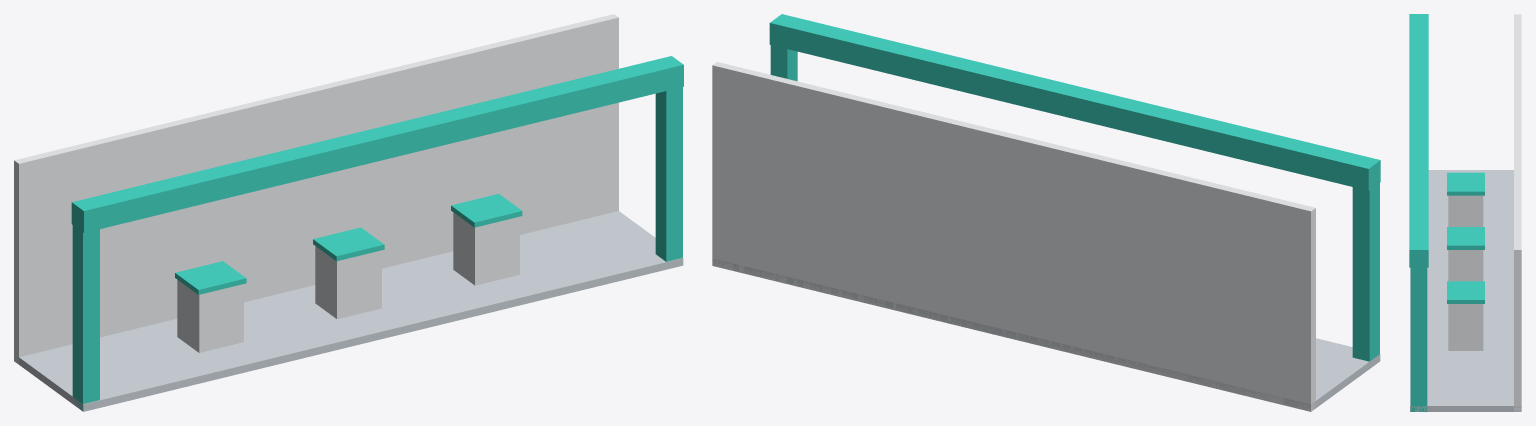
The picture shows the model from 3 angles, left to right: view 1: azimuth 30°, elevation 25°; view 2: azimuth 150°, elevation 25°; view 3: azimuth 270°, elevation 25°; orthographic projection. The views are drawn at different scales.
Parts seen in each view (by area): view 1: Exhibition Booth Concept; view 2: Exhibition Booth Concept; view 3: Exhibition Booth Concept.
Part boxes in pixels (left/top/right/bottom): Exhibition Booth Concept: left=14, top=14, right=683, bottom=411; Exhibition Booth Concept: left=712, top=14, right=1380, bottom=411; Exhibition Booth Concept: left=1409, top=14, right=1521, bottom=411.
Bounding box in the file's own units: 10 × 3.2 × 2.01.
